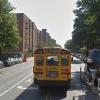Bus: (29, 44, 76, 93)
